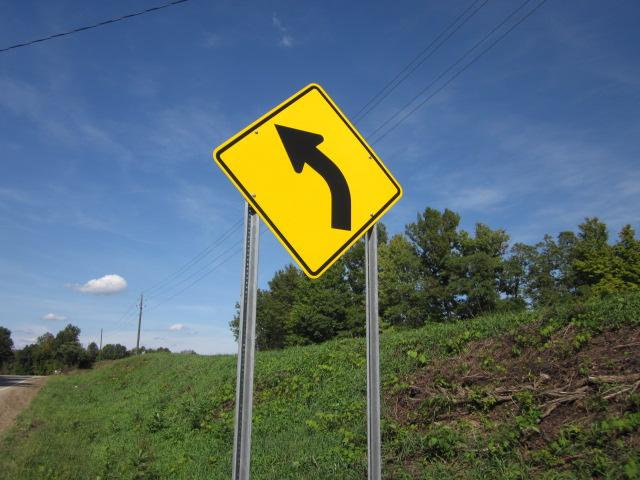warning: (216, 83, 403, 280)
